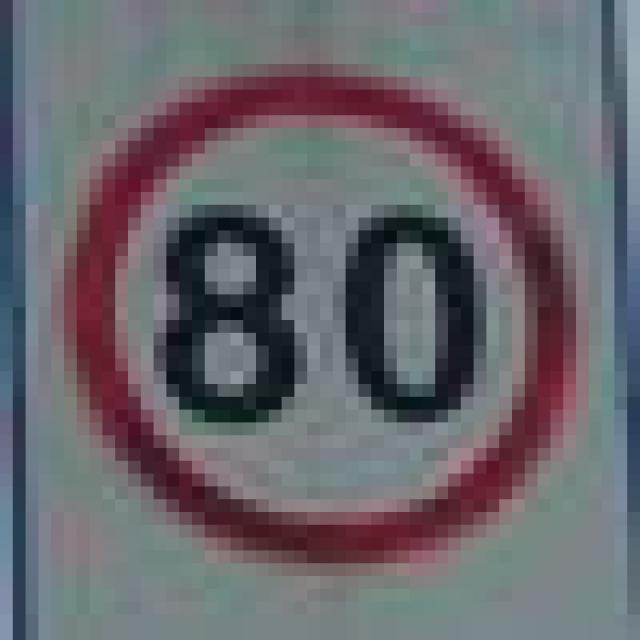SPEED_LIMIT_80: (51, 64, 563, 550)
